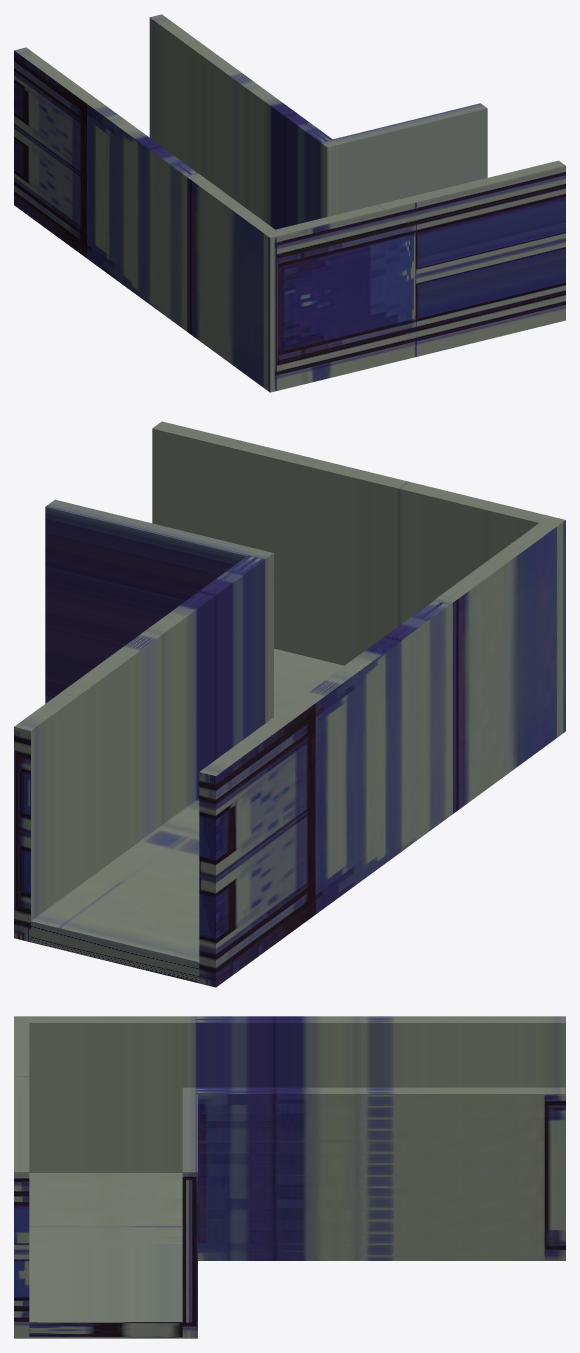
The model's file is LpieceHole.fbx.
The picture shows the model from 3 angles, top to bottom: view 1: azimuth 30°, elevation 25°; view 2: azimuth 150°, elevation 25°; view 3: azimuth 270°, elevation 25°; orthographic projection. The views are drawn at different scales.
Visible parts, largest first — view 1: LPieceHole; view 2: LPieceHole; view 3: LPieceHole.
Part boxes in pixels (box(x1,y1,x2,y2)): LPieceHole: box(14, 14, 565, 392); LPieceHole: box(14, 421, 565, 987); LPieceHole: box(14, 1016, 565, 1338).
Bounding box in the file's own units: 400 × 200 × 600.
